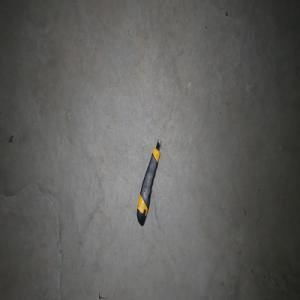Cutter: (135, 139, 161, 226)
